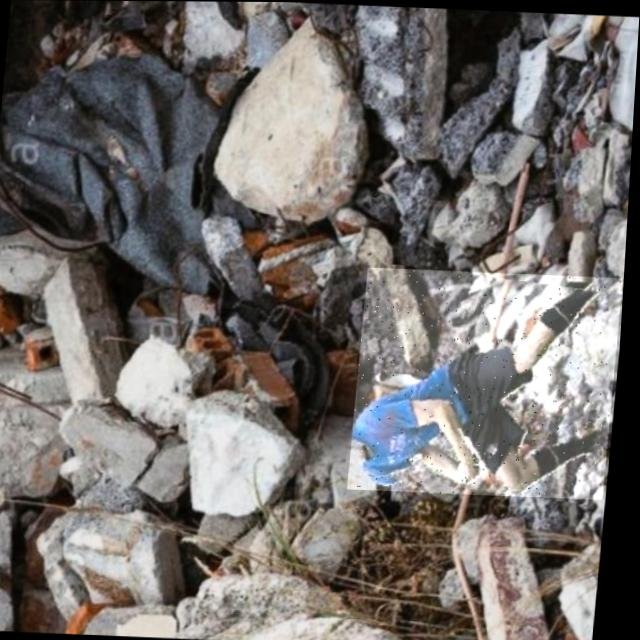Person in Rubble: (352, 265, 627, 498)
